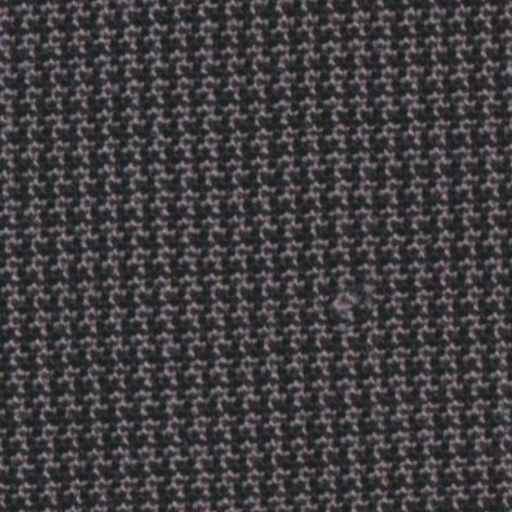PoDong: (298, 274, 380, 324)
